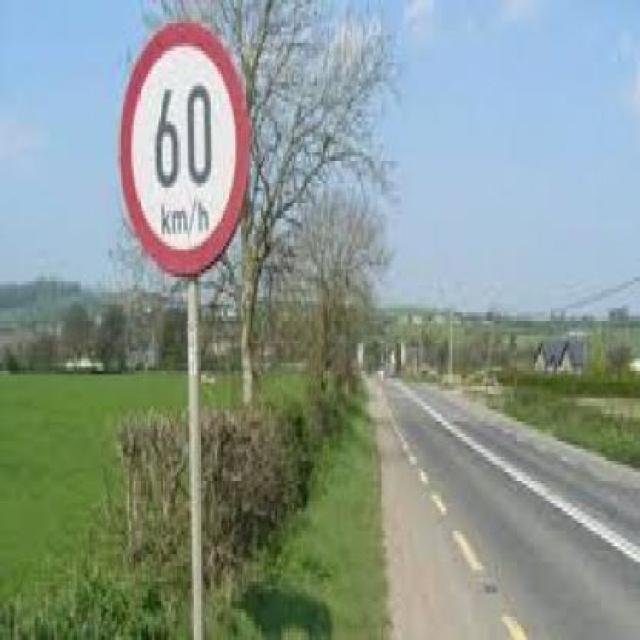forb_speed_over_60: (120, 21, 245, 270)
